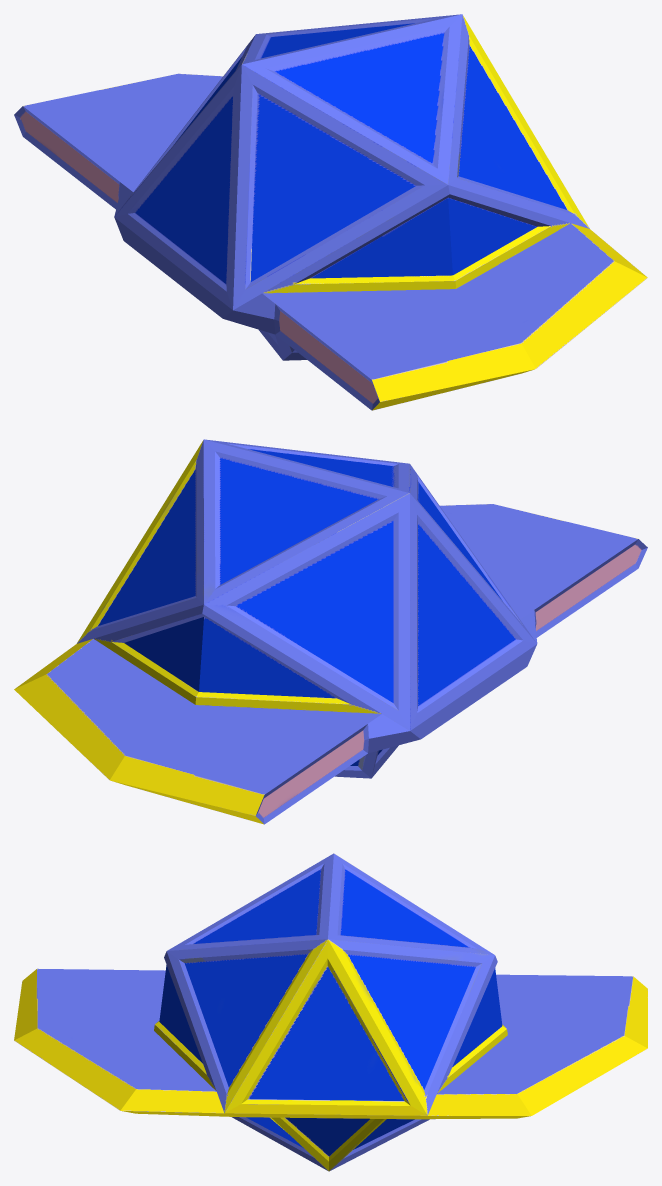
Rendered from BlueFighter.fbx.
The picture shows the model from 3 angles, top to bottom: view 1: azimuth 30°, elevation 25°; view 2: azimuth 150°, elevation 25°; view 3: azimuth 270°, elevation 25°; orthographic projection. The views are drawn at different scales.
Visible parts, largest first — view 1: Icosphere; view 2: Icosphere; view 3: Icosphere.
Boxes of the visible parts, left/top/right/bottom form: Icosphere: left=14, top=14, right=647, bottom=410; Icosphere: left=14, top=439, right=647, bottom=824; Icosphere: left=14, top=853, right=647, bottom=1171.
Bounding box in the file's own units: 173 × 142 × 328.
1 material, 1 textured.
